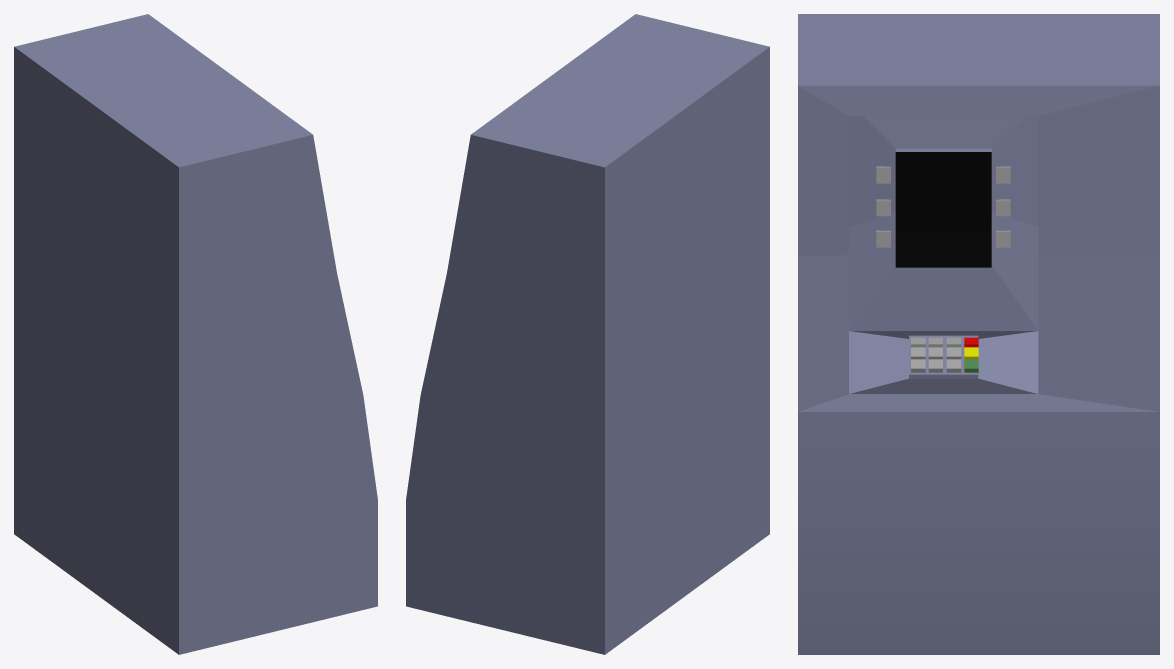
Rendered from ATM.fbx.
3 renders of one model, left to right at view 1: azimuth 30°, elevation 25°; view 2: azimuth 150°, elevation 25°; view 3: azimuth 270°, elevation 25°, orthographic. The views are drawn at different scales.
Visible parts, largest first — view 1: pCube363; view 2: pCube363; view 3: pCube363.
Boxes of the visible parts, left/top/right/bottom form: pCube363: left=14, top=14, right=377, bottom=654; pCube363: left=406, top=14, right=769, bottom=654; pCube363: left=798, top=14, right=1159, bottom=654.
Size of the model in its own units: 17.55 by 41.12 by 25.21.
